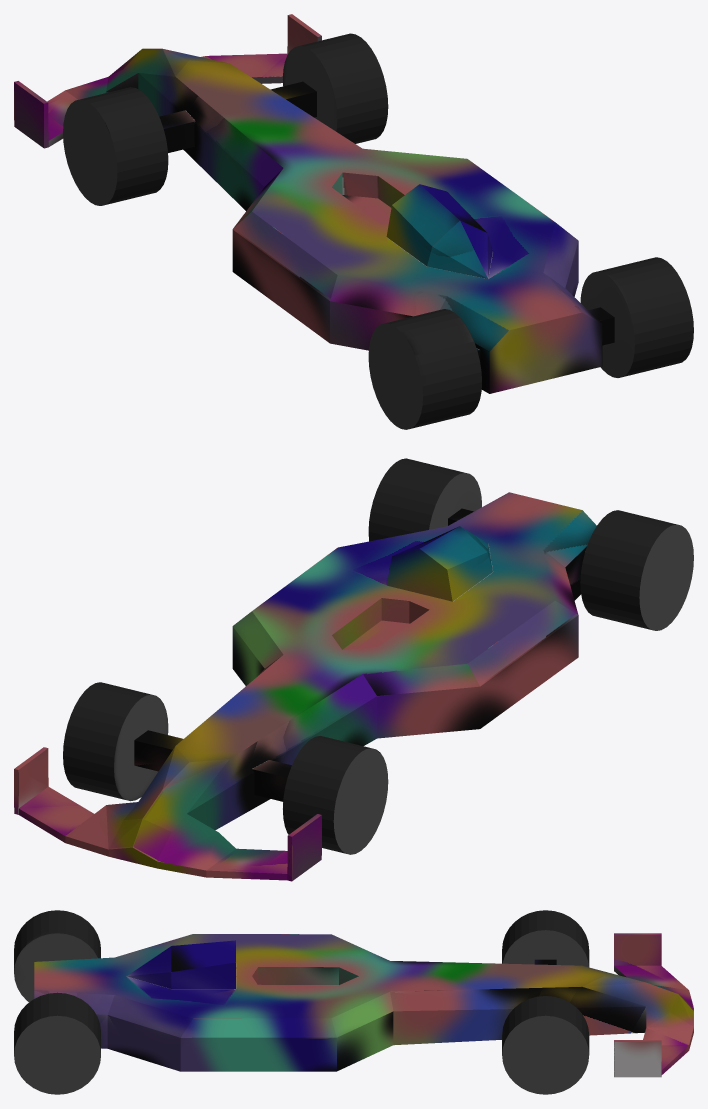
The model's file is car.glb.
The picture shows the model from 3 angles, top to bottom: view 1: azimuth 30°, elevation 25°; view 2: azimuth 150°, elevation 25°; view 3: azimuth 270°, elevation 25°; orthographic projection. The views are drawn at different scales.
Visible parts, largest first — view 1: Car, Rear_Axle, Wheel_FL, Wheel_FR; view 2: Car, Rear_Axle, Wheel_FL, Wheel_FR; view 3: Car, Rear_Axle, Wheel_FR, Wheel_FL.
Boxes of the visible parts, x1=… form: Car: x1=14, y1=14, x2=614, y2=393; Rear_Axle: x1=368, y1=257, x2=693, y2=429; Wheel_FL: x1=63, y1=87, x2=168, y2=205; Wheel_FR: x1=282, y1=33, x2=388, y2=143; Car: x1=14, y1=492, x2=596, y2=881; Rear_Axle: x1=368, y1=458, x2=693, y2=630; Wheel_FL: x1=283, y1=736, x2=388, y2=854; Wheel_FR: x1=63, y1=682, x2=168, y2=801; Car: x1=34, y1=933, x2=693, y2=1077; Rear_Axle: x1=14, y1=910, x2=100, y2=1094; Wheel_FR: x1=502, y1=996, x2=589, y2=1094; Wheel_FL: x1=502, y1=910, x2=589, y2=967.
Size of the model in its own units: 1.94 by 0.8477 by 5.15.
Materials: 2 (2 with a texture image).
